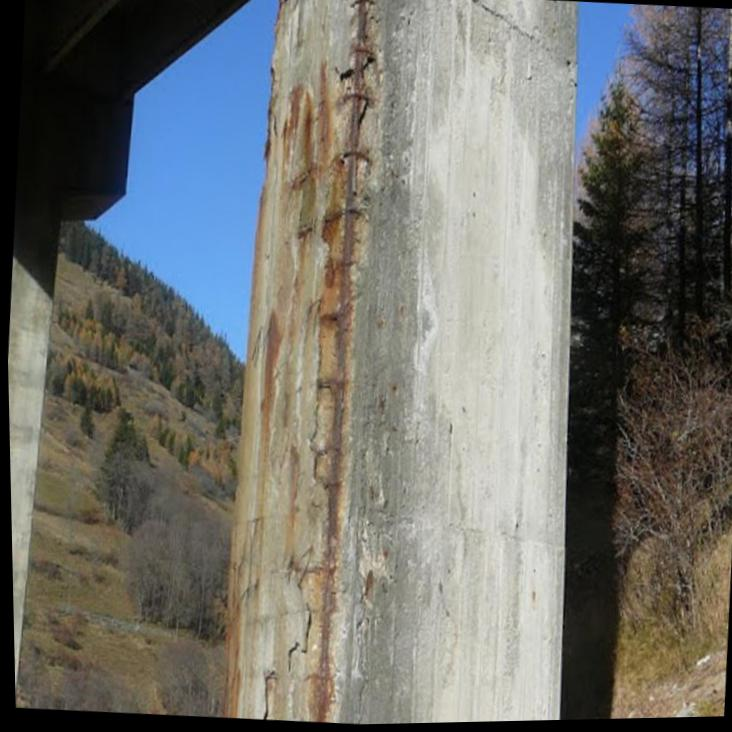crack: (284, 610, 309, 674), (258, 672, 274, 720)
damage: (253, 0, 388, 725)
